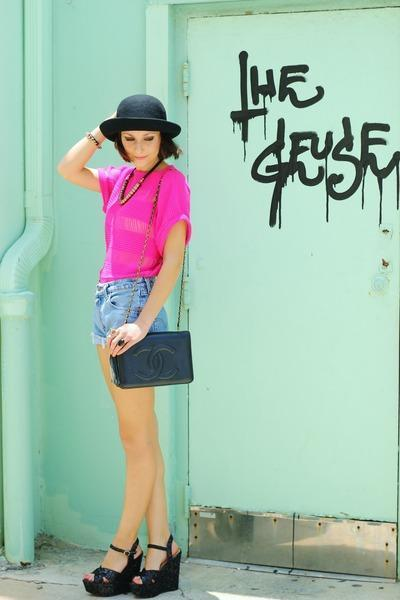bag: (110, 330, 193, 388)
hat: (99, 95, 167, 148)
shirt: (99, 159, 189, 284)
shoe: (84, 540, 183, 598)
shorts: (95, 276, 175, 334)
